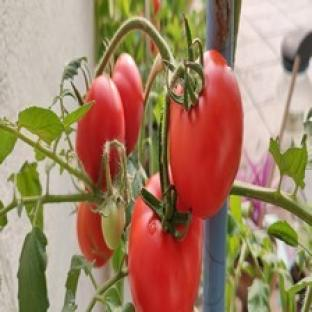Tomato: (169, 51, 242, 218), (129, 198, 201, 311), (76, 76, 125, 182), (112, 53, 143, 154), (77, 202, 112, 267), (102, 200, 125, 249)
